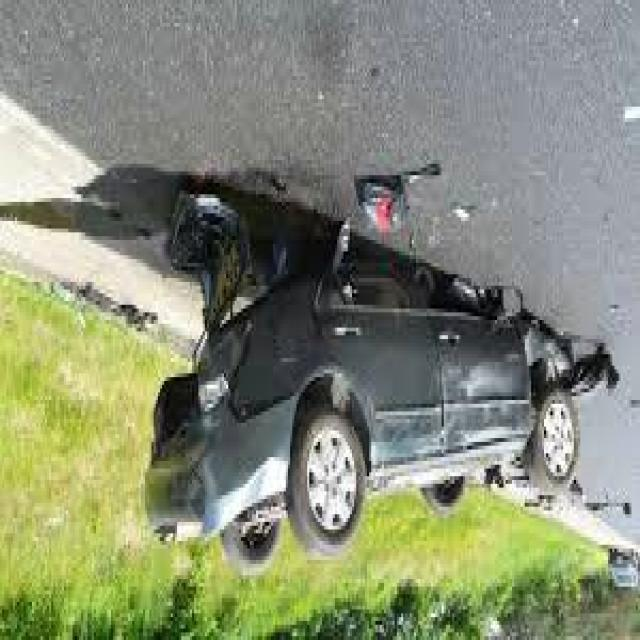severe: (138, 181, 582, 589)
